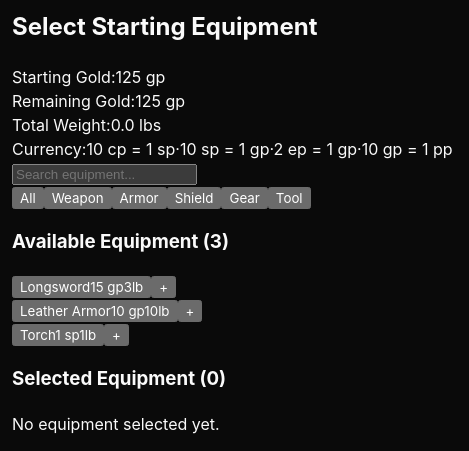
it: EquipmentSelectionStep › category filter › clicking All category button shows all items
Expected: the text "Longsword" is shown, x1=20 y1=279 x2=90 y2=295
Click the button "Weapon".
click(78, 198)  # box x1=44 y1=187 x2=112 y2=209
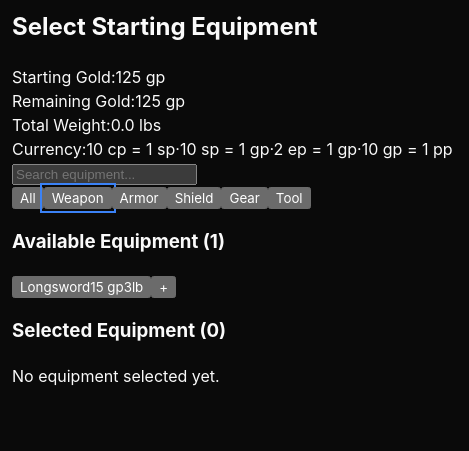
Click the button "All".
click(28, 198)  # box x1=12 y1=187 x2=44 y2=209
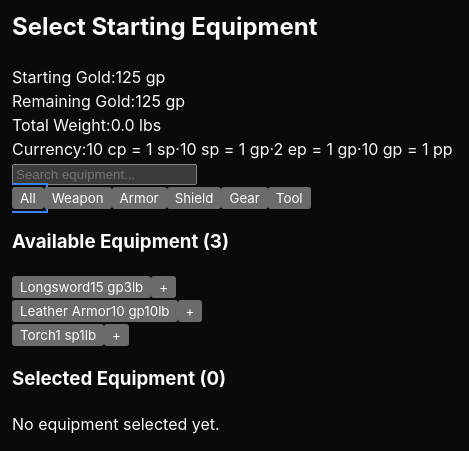
Expected: the text "Longsword" is shown, x1=20 y1=279 x2=90 y2=295
Expected: the text "Leather Armor" is shown, x1=20 y1=303 x2=111 y2=319
